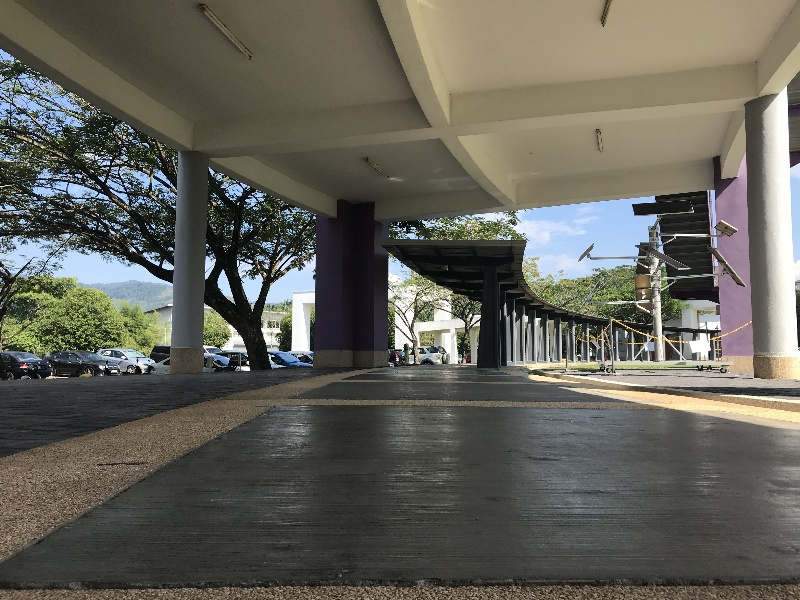Block D corridor: (5, 6, 796, 593)
pillar: (701, 108, 795, 375), (307, 197, 391, 371), (167, 149, 213, 372), (475, 264, 504, 364)
